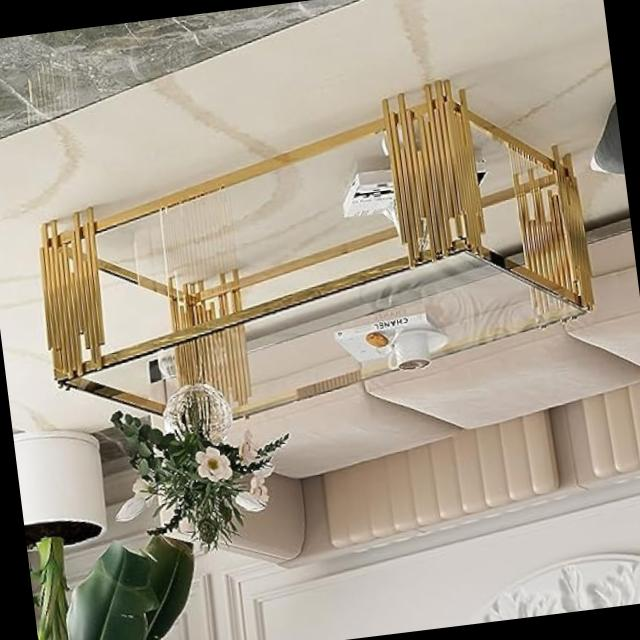glass: (12, 46, 604, 489), (71, 247, 574, 440), (148, 372, 245, 458)
